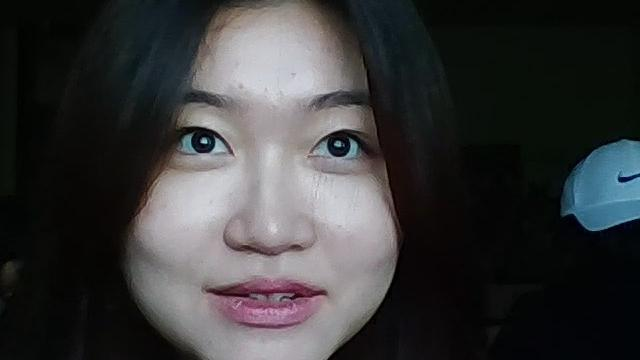eye: (192, 130, 215, 153), (328, 135, 350, 158)
iris: (307, 129, 374, 165), (171, 129, 235, 160)
